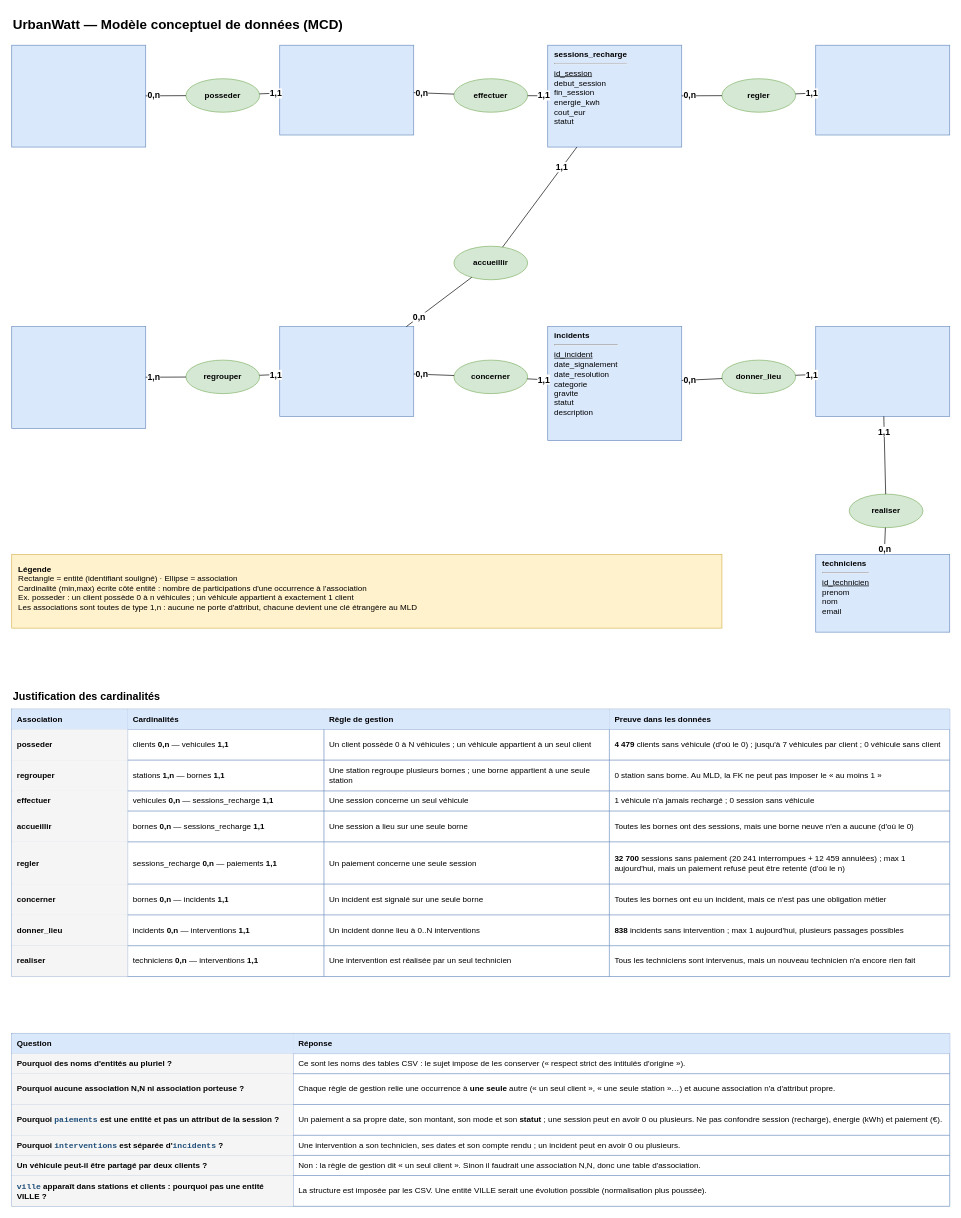
This 961x1218 diagram has some shape labels left out. Here are the shapes that lost their labels. From the top down, the box of each, then its label:
(11, 45, 146, 147): clients id_client prenom nom email ville date_inscription
(279, 45, 414, 135): vehicules id_vehicule immatriculation marque modele capacite_batterie_kwh
(815, 45, 950, 135): paiements id_paiement date_paiement montant_eur mode_paiement statut
(11, 326, 146, 428): stations id_station code_station nom_station ville adresse date_ouverture
(279, 326, 414, 416): bornes id_borne code_borne puissance_kw connecteur etat
(815, 326, 950, 416): interventions id_intervention date_debut date_fin statut compte_rendu
